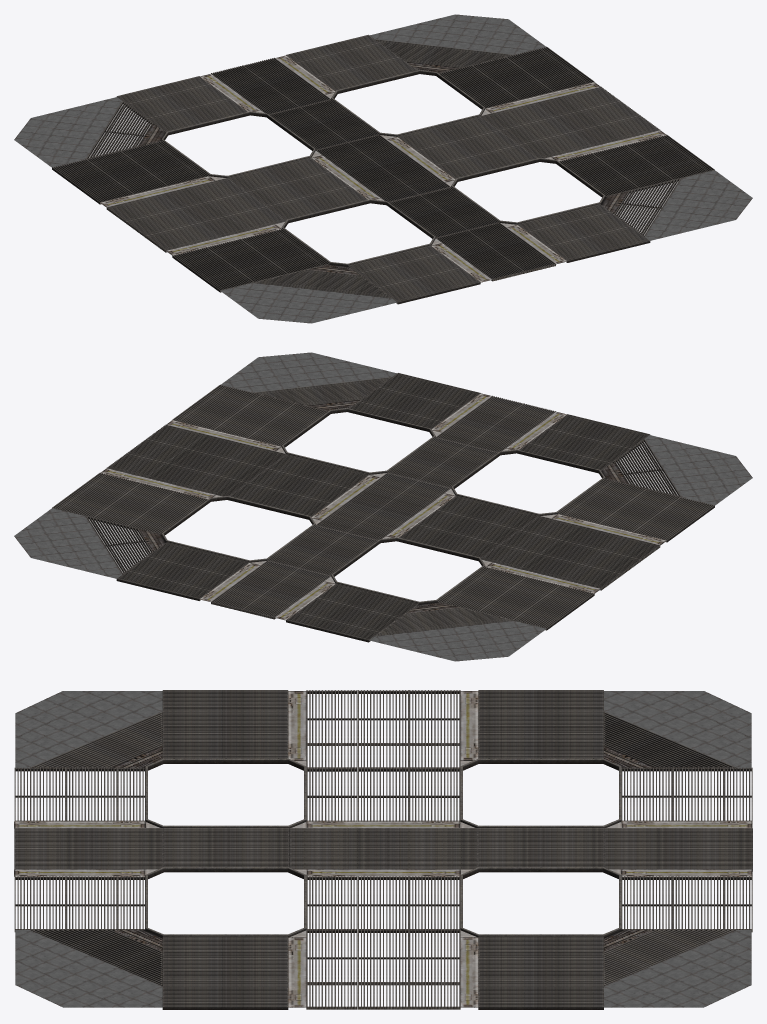
The model's file is 02_01_hubroom_floor.dae.
3 renders of one model, top to bottom at view 1: azimuth 30°, elevation 25°; view 2: azimuth 150°, elevation 25°; view 3: azimuth 270°, elevation 25°, orthographic. The views are drawn at different scales.
Parts seen in each view (by area): view 1: polySurface103, polySurface101, polySurface104; view 2: polySurface103, polySurface101, polySurface104; view 3: polySurface103, polySurface101, polySurface104.
Boxes of the visible parts, x1=… form: polySurface103: x1=52, y1=34, x2=714, y2=304; polySurface101: x1=14, y1=14, x2=752, y2=323; polySurface104: x1=100, y1=55, x2=666, y2=282; polySurface103: x1=52, y1=373, x2=714, y2=642; polySurface101: x1=14, y1=352, x2=752, y2=661; polySurface104: x1=100, y1=393, x2=666, y2=620; polySurface103: x1=14, y1=690, x2=752, y2=1009; polySurface101: x1=15, y1=691, x2=751, y2=1007; polySurface104: x1=14, y1=691, x2=752, y2=1007.
Bounding box in the file's own units: 13.33 × 0.0904 × 13.14.
